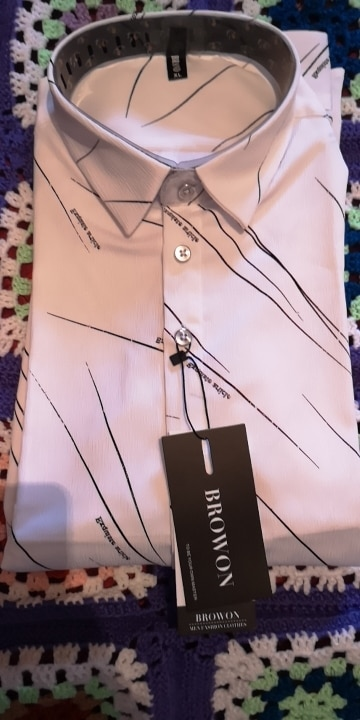shirts: (18, 37, 345, 524)
